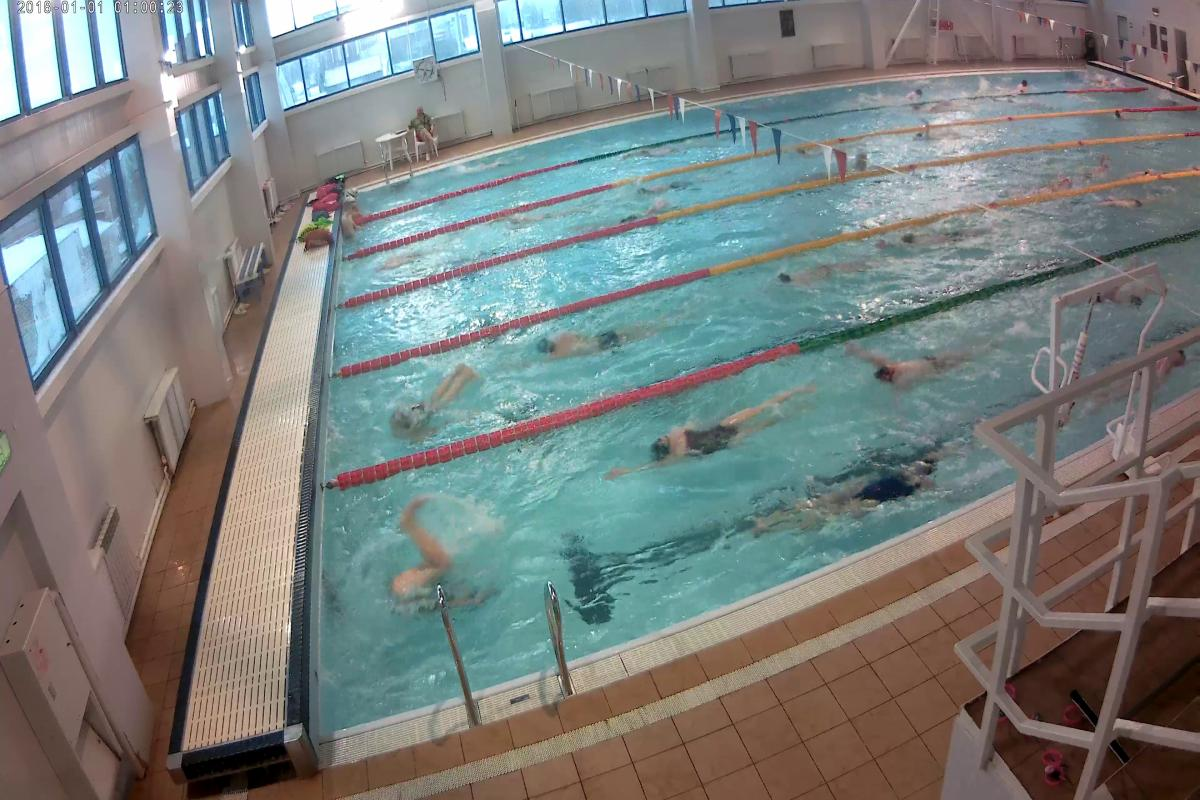swimmer: (612, 381, 809, 471), (815, 457, 957, 533), (377, 529, 494, 618), (379, 358, 475, 442), (518, 320, 670, 370), (862, 338, 981, 394), (776, 254, 881, 297), (1090, 180, 1160, 225), (889, 224, 986, 255)
